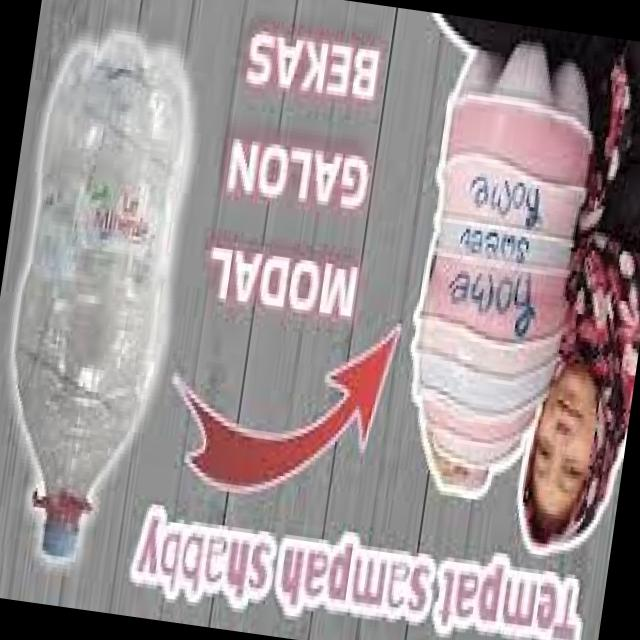Galon: (0, 31, 211, 604)
